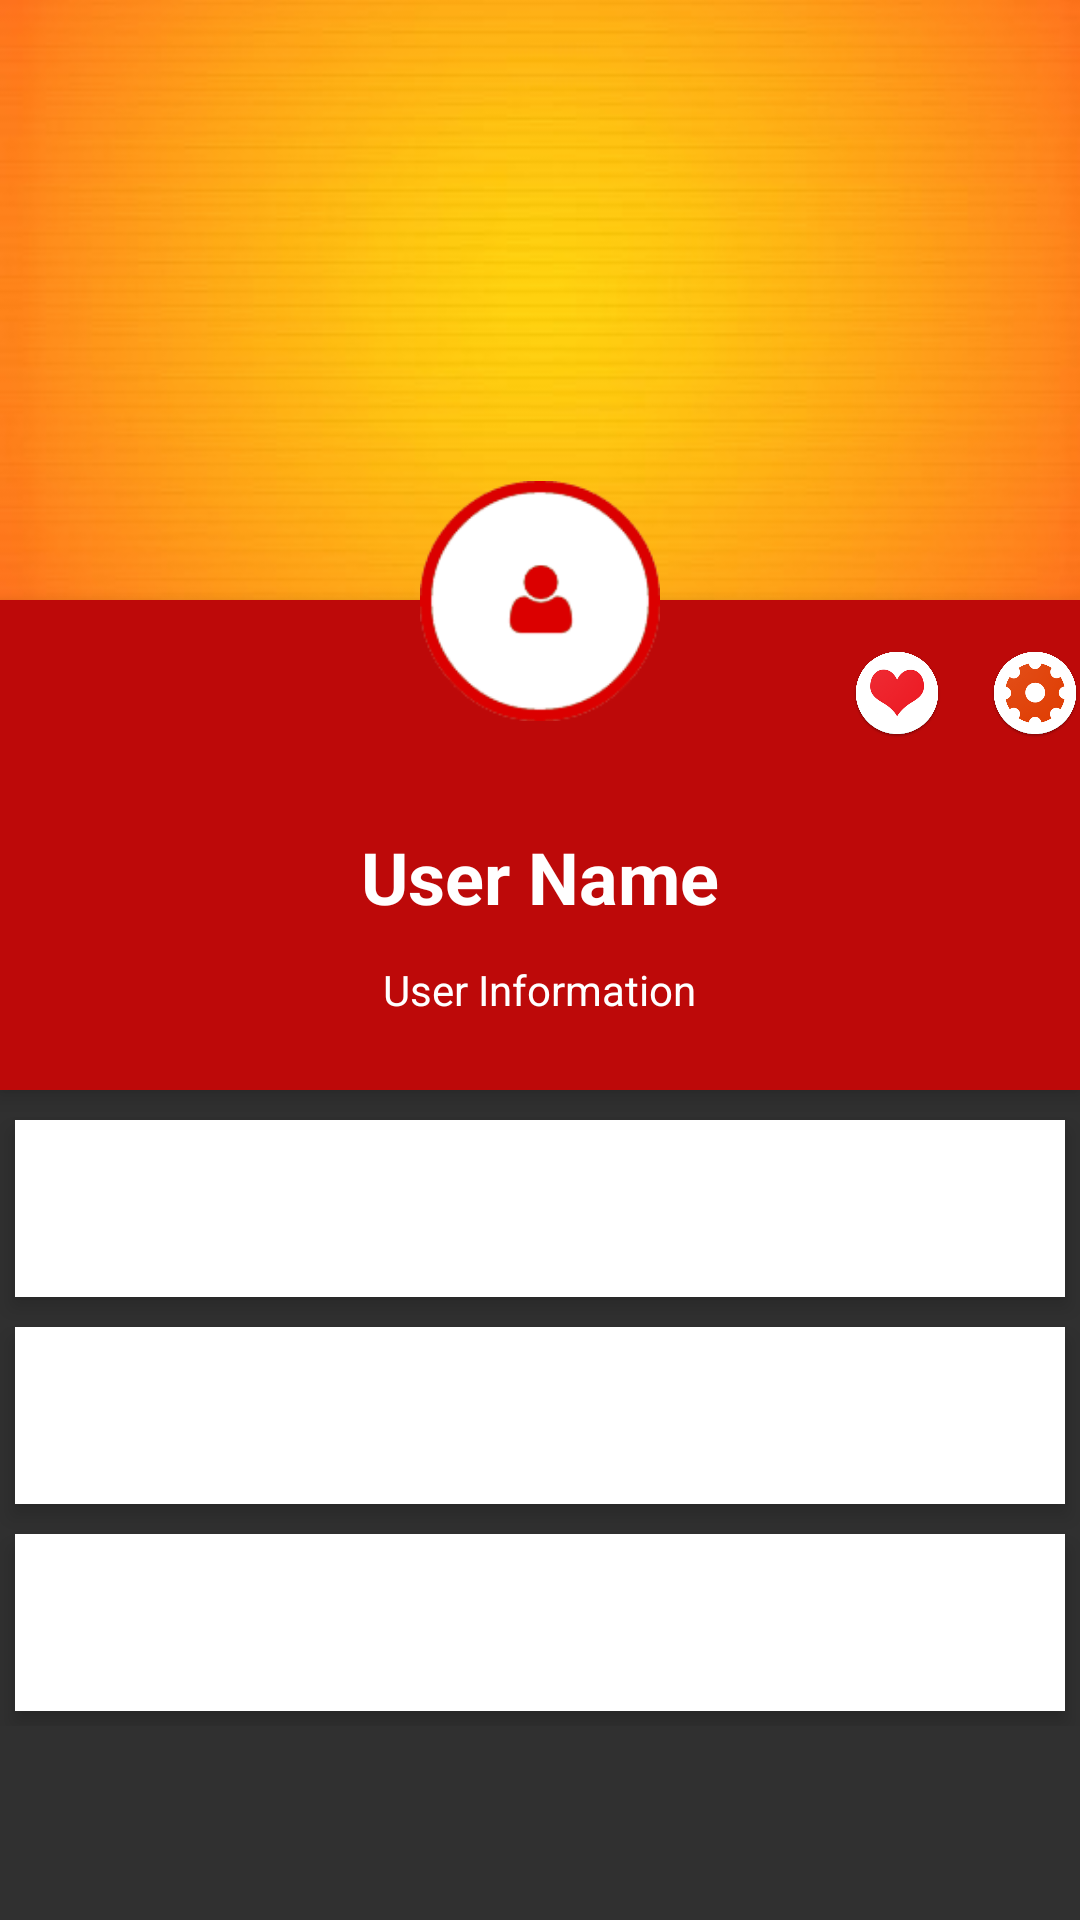

Screen size 1080x1920. Icon name, then its center in pixels as (x=x, y=y):
favorites: (x=897, y=694)
profile: (x=540, y=601)
settings: (x=1035, y=694)
